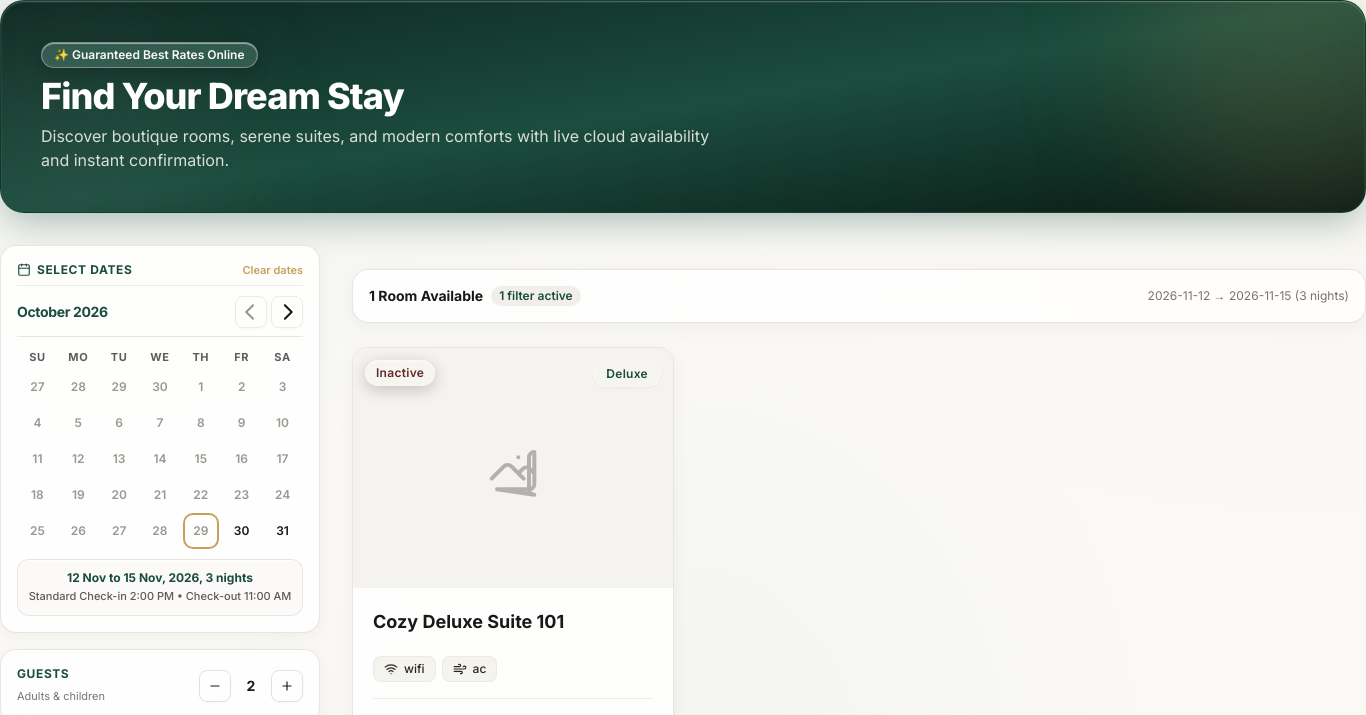
it: Task 3: Rooms Search Page Sidebar & One-Month Calendar › adjusts guests count with stepper plus and minus buttons
Expected: the heading "Cozy Deluxe Suite 101" is shown, left=373, top=608, right=564, bottom=636
Click the button named "increase guests": (287, 686) left=271, top=670, right=303, bottom=702
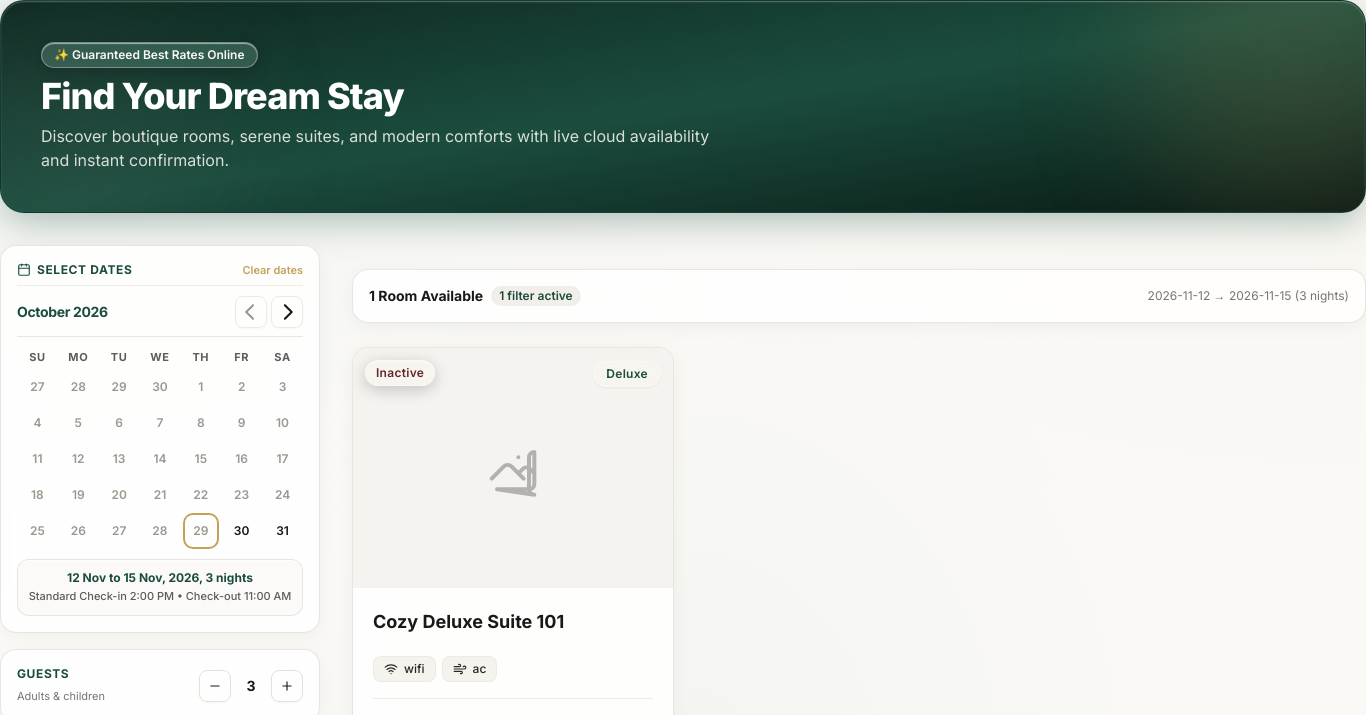
Expected: the text with test id "guests-count" reads "3", left=246, top=676, right=256, bottom=694
